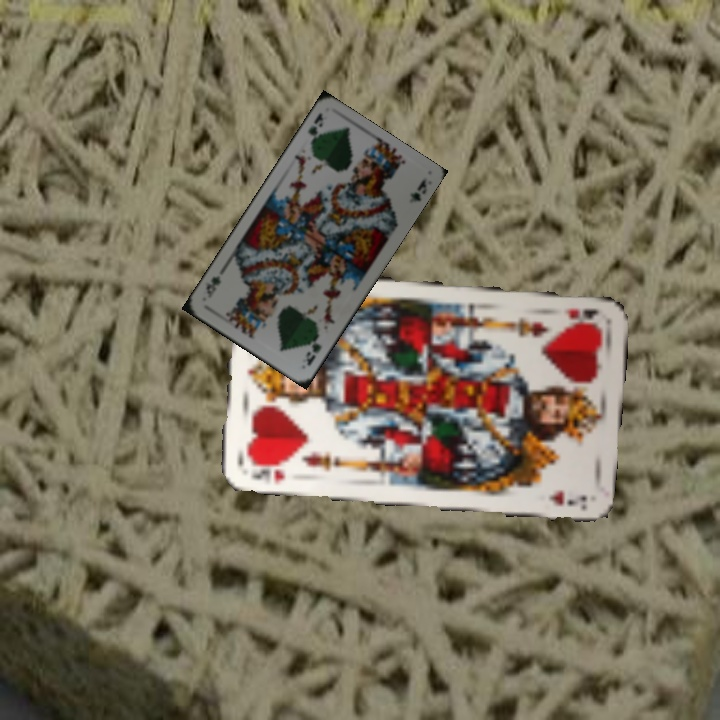GK: (303, 108, 326, 148), (301, 339, 324, 369)
HK: (243, 457, 287, 487), (559, 304, 602, 322)
